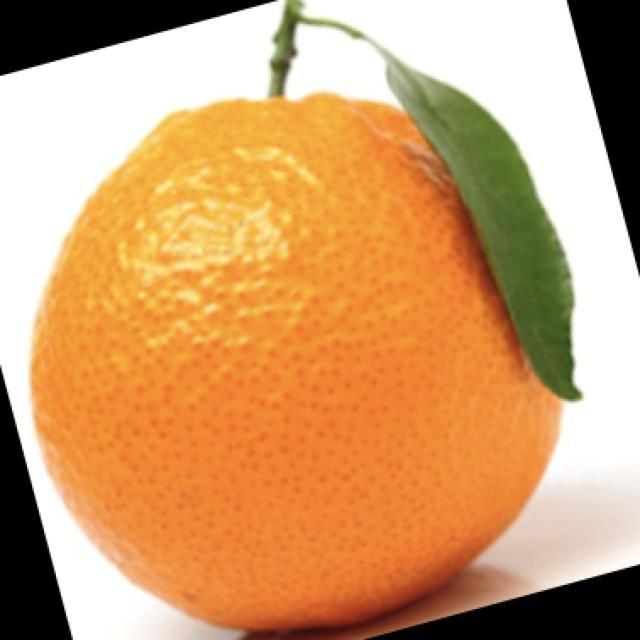matang: (31, 94, 559, 630)
